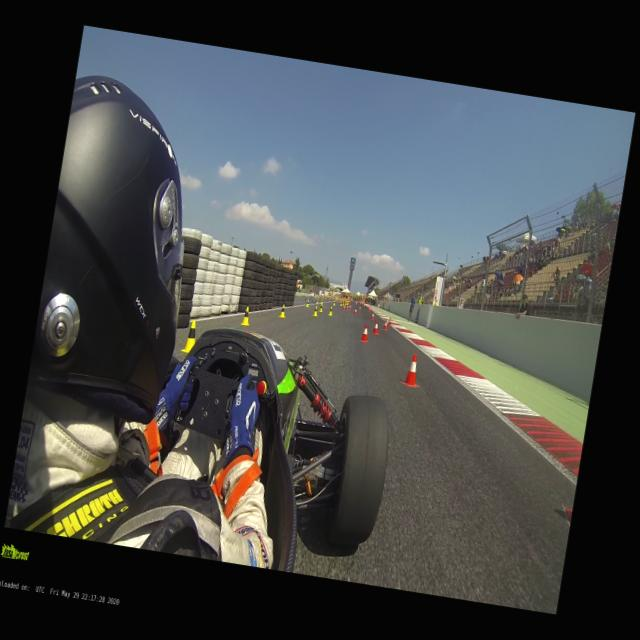orange_cone: (401, 352, 423, 388), (360, 323, 370, 342), (372, 321, 381, 335), (382, 320, 388, 330), (370, 312, 375, 320), (387, 318, 392, 326), (354, 308, 357, 316), (358, 306, 362, 312), (348, 304, 352, 310), (368, 306, 372, 312), (342, 305, 346, 310), (346, 305, 348, 311)
yellow_cone: (182, 319, 198, 350), (241, 306, 252, 326), (279, 304, 287, 318), (313, 306, 319, 316), (328, 306, 333, 316), (319, 304, 324, 312), (305, 300, 310, 307), (333, 300, 336, 306), (321, 300, 324, 304), (316, 300, 318, 304)
